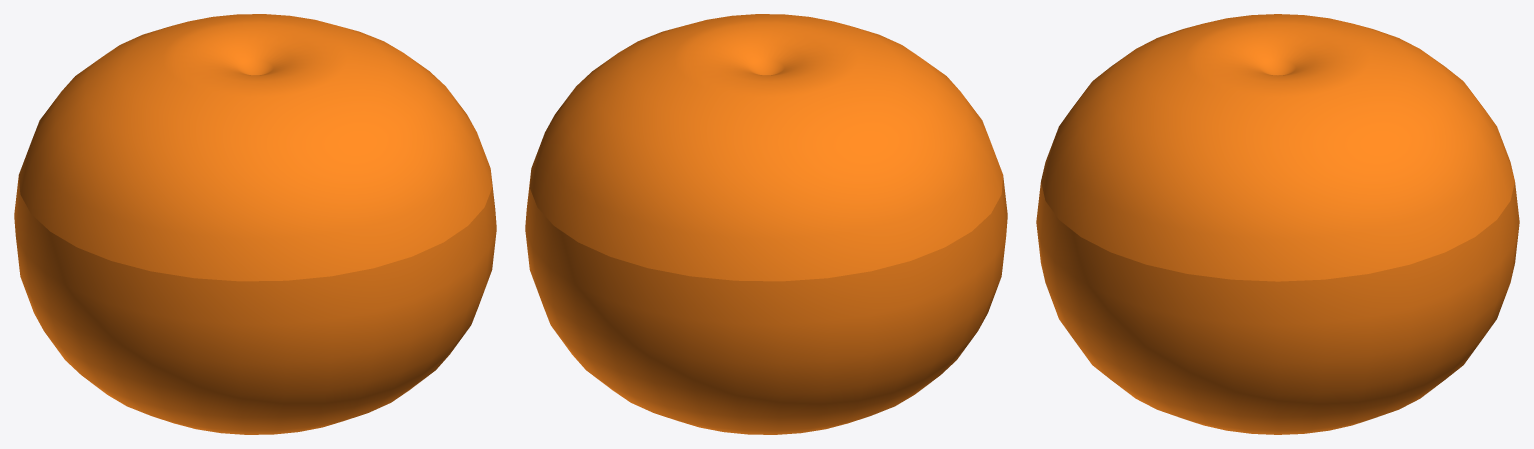
The model's file is orange.fbx.
The picture shows the model from 3 angles, left to right: view 1: azimuth 30°, elevation 25°; view 2: azimuth 150°, elevation 25°; view 3: azimuth 270°, elevation 25°; orthographic projection.
Parts seen in each view (by area): view 1: orange.001, orange; view 2: orange.001, orange; view 3: orange.001, orange.
Part boxes in pixels (<box>): orange.001: <box>19,14,491,281</box>; orange: <box>14,173,496,434</box>; orange.001: <box>530,14,1002,281</box>; orange: <box>525,173,1007,434</box>; orange.001: <box>1041,14,1514,281</box>; orange: <box>1036,182,1519,434</box>.
Bounding box in the file's own units: 200 × 155 × 200.
